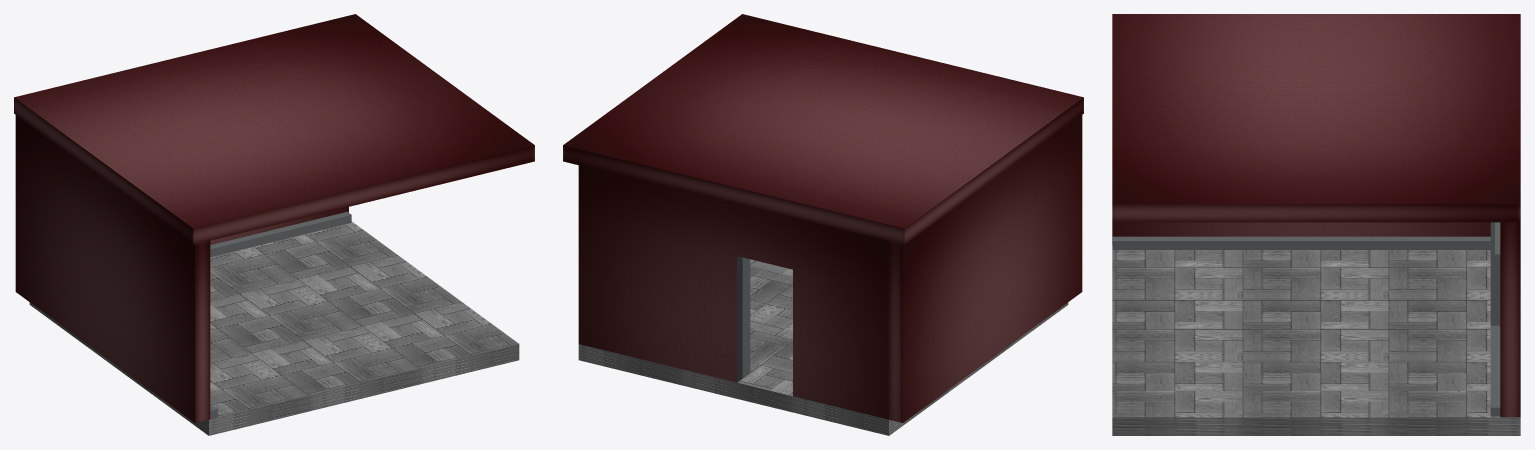
The model's file is door.obj.
3 renders of one model, left to right at view 1: azimuth 30°, elevation 25°; view 2: azimuth 150°, elevation 25°; view 3: azimuth 270°, elevation 25°, orthographic. The views are drawn at different scales.
Parts seen in each view (by area): view 1: Plafond_Cube.009, Sol_Cube.006, Wall2_Cube.008, Contours_Cube.001, Wall1_Cube.007; view 2: Plafond_Cube.009, Wall1_Cube.007, Wall2_Cube.008, Sol_Cube.006, Contours_Cube.001; view 3: Plafond_Cube.009, Sol_Cube.006, Contours_Cube.001, Wall2_Cube.008, Wall1_Cube.007, Tableau1_Cube.012.
Boxes of the visible parts, <box> form: Plafond_Cube.009: <box>14,14,534,244</box>; Sol_Cube.006: <box>29,221,519,435</box>; Wall2_Cube.008: <box>15,115,210,422</box>; Contours_Cube.001: <box>210,211,351,418</box>; Wall1_Cube.007: <box>210,207,348,244</box>; Plafond_Cube.009: <box>563,14,1083,244</box>; Wall1_Cube.007: <box>578,165,888,419</box>; Wall2_Cube.008: <box>887,115,1082,422</box>; Sol_Cube.006: <box>578,259,1068,435</box>; Contours_Cube.001: <box>742,257,750,377</box>; Plafond_Cube.009: <box>1112,14,1520,222</box>; Sol_Cube.006: <box>1112,246,1520,435</box>; Contours_Cube.001: <box>1112,222,1500,416</box>; Wall2_Cube.008: <box>1112,222,1490,245</box>; Wall1_Cube.007: <box>1500,222,1520,417</box>; Tableau1_Cube.012: <box>1495,222,1500,305</box>.
Size of the model in its own units: 44 by 26 by 40.
4 materials, 4 textured.
